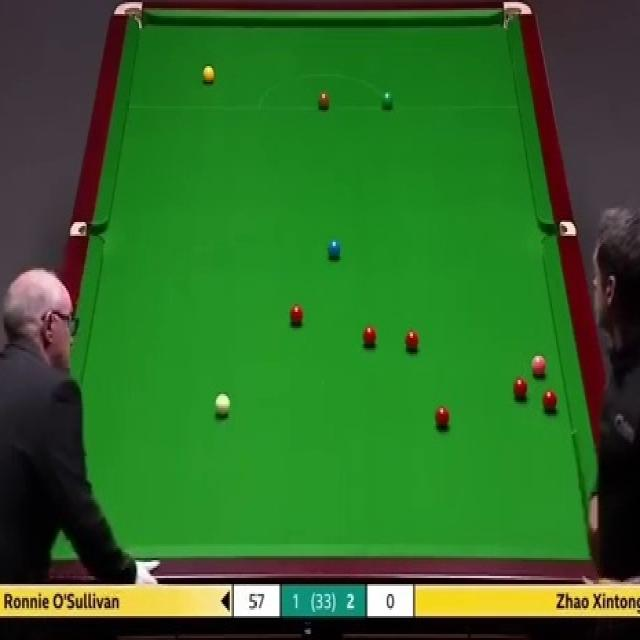blue-ball: (328, 236, 341, 262)
brown-ball: (317, 91, 331, 109)
green-ball: (380, 88, 395, 110)
pink-ball: (530, 356, 549, 376)
red-ball: (513, 376, 530, 404), (433, 407, 451, 432), (362, 324, 377, 350), (403, 330, 420, 352), (542, 392, 558, 414), (289, 303, 303, 324)
white-ball: (214, 395, 232, 419)
yellow-ball: (203, 66, 215, 85)
